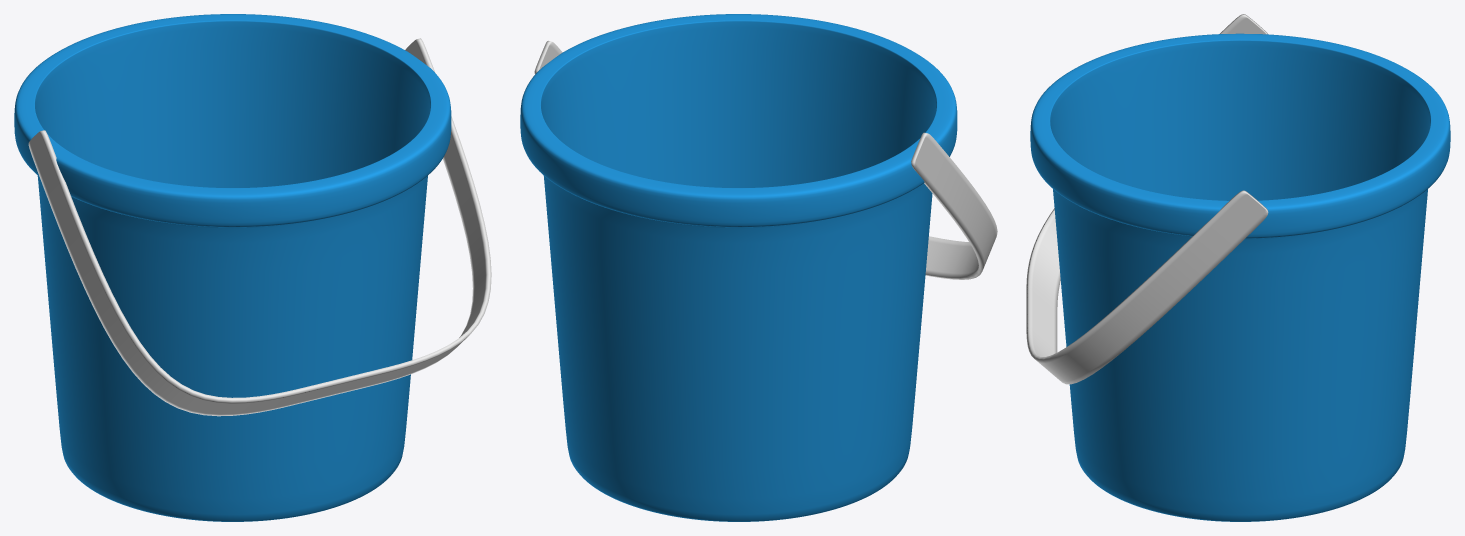
The model's file is Bucket (done).fbx.
The picture shows the model from 3 angles, left to right: view 1: azimuth 30°, elevation 25°; view 2: azimuth 150°, elevation 25°; view 3: azimuth 270°, elevation 25°; orthographic projection. The views are drawn at different scales.
Parts seen in each view (by area): view 1: Cylinder, Plane; view 2: Cylinder, Plane; view 3: Cylinder, Plane.
Part boxes in pixels (x1,y1,x2,y2): Cylinder: (14, 14, 451, 521); Plane: (28, 38, 491, 416); Cylinder: (520, 14, 957, 521); Plane: (534, 41, 997, 279); Cylinder: (1030, 33, 1450, 521); Plane: (1026, 14, 1268, 384).
Bounding box in the file's own units: 256 × 235 × 257.
